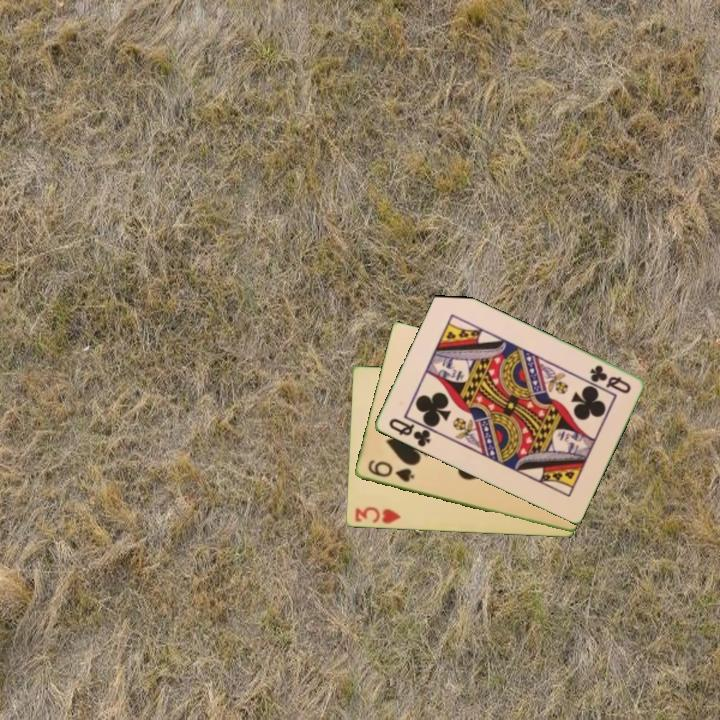3h: (351, 504, 403, 527)
6s: (364, 456, 417, 485)
Qc: (586, 361, 634, 397), (385, 415, 433, 450)
